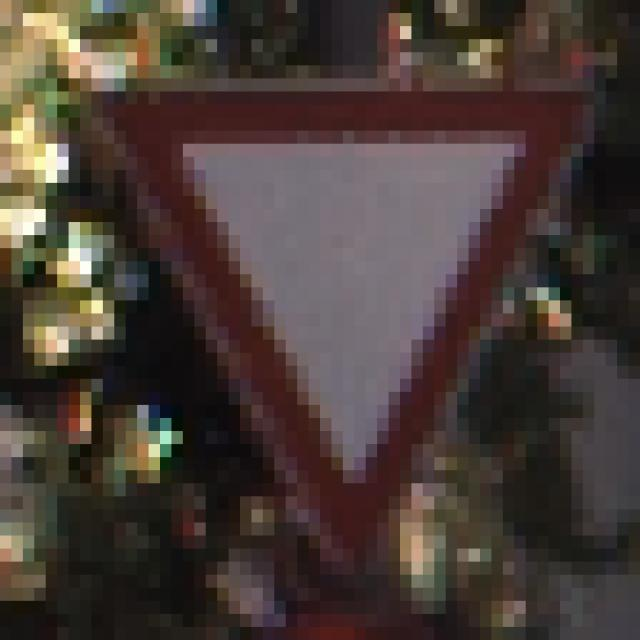Give Way: (58, 79, 573, 576)
